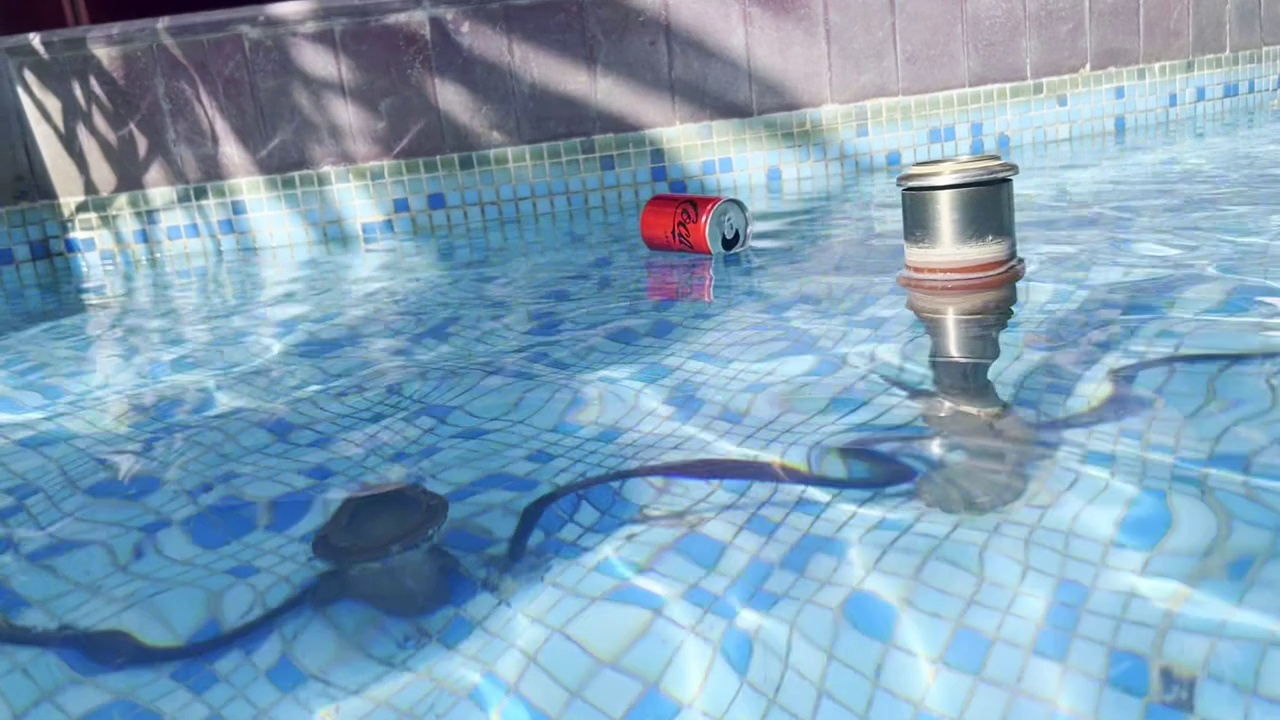debris: (635, 186, 757, 263)
